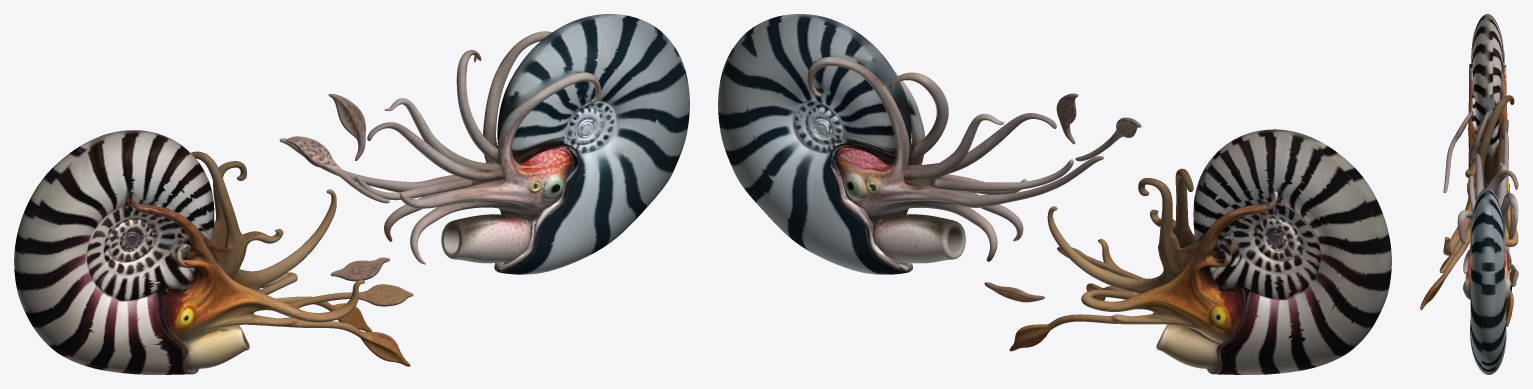
The picture shows the model from 3 angles, left to right: view 1: azimuth 30°, elevation 25°; view 2: azimuth 150°, elevation 25°; view 3: azimuth 270°, elevation 25°; orthographic projection. The views are drawn at different scales.
Parts seen in each view (by area): view 1: node_0; view 2: node_0; view 3: node_0.
Part boxes in pixels (x1,y1,x2,y2): node_0: (14,14,689,374); node_0: (718,14,1391,374); node_0: (1420,14,1518,374).
Size of the model in its own units: 0.3001 by 0.1176 by 0.0508.
1 material, 1 textured.
